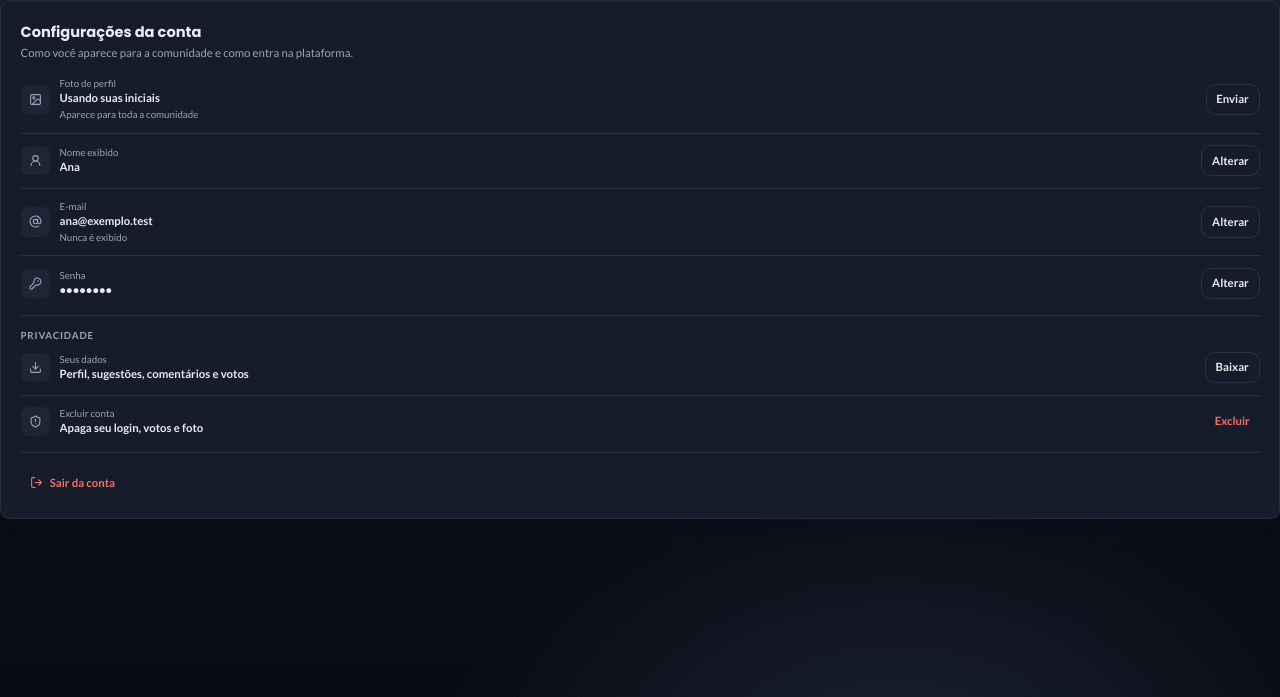
Test: Configurações da conta: senha › valida no navegador antes de falar com o servidor
Click the button "Alterar" in the row of "Senha" at (1230,283), box left=1201, top=268, right=1260, bottom=299
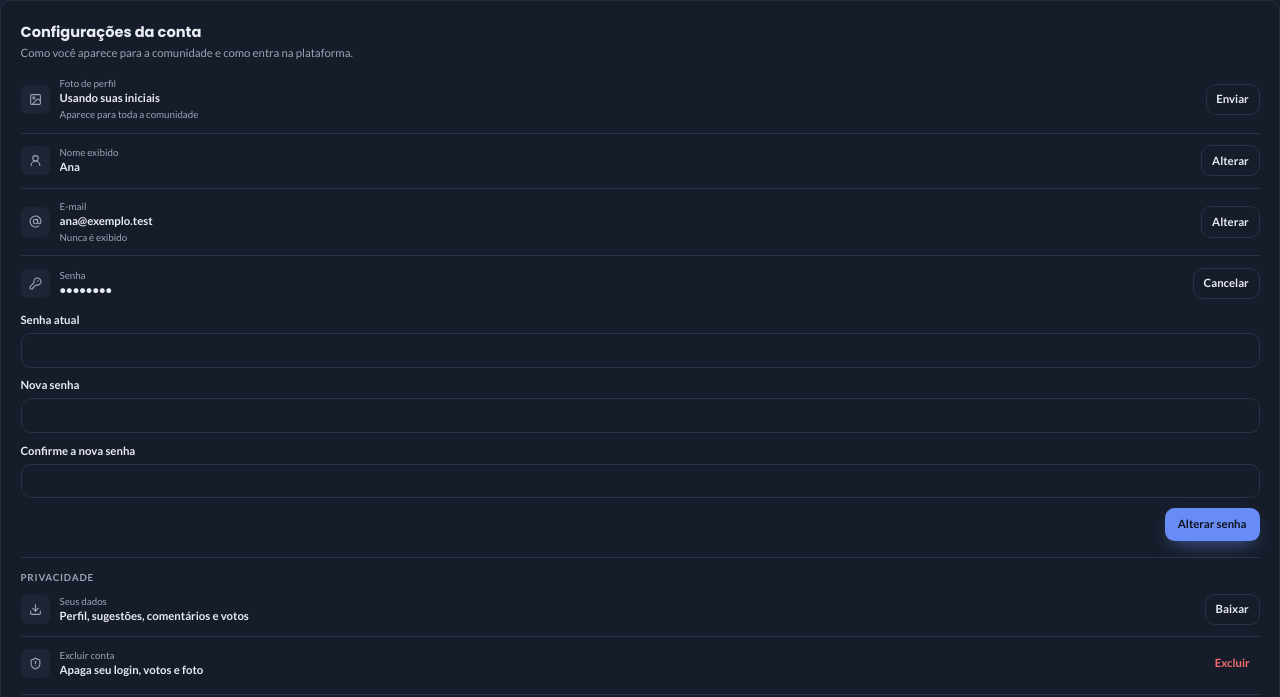
Type "senha-antiga" into the password field labelled "Senha atual" at (640,350), box left=20, top=333, right=1260, bottom=368
Type "curta" into the password field labelled "Nova senha" at (640,416), box left=20, top=398, right=1260, bottom=433
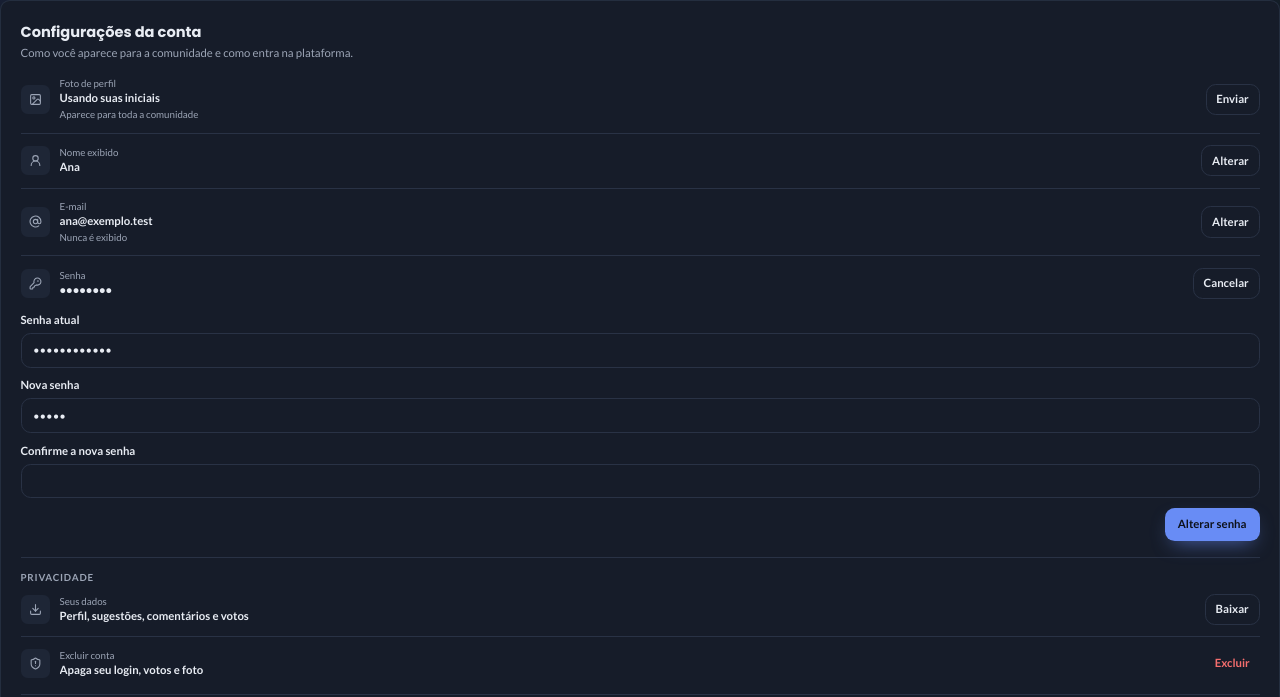
Click the button "Alterar senha" at (1212,524), box left=1165, top=508, right=1260, bottom=540
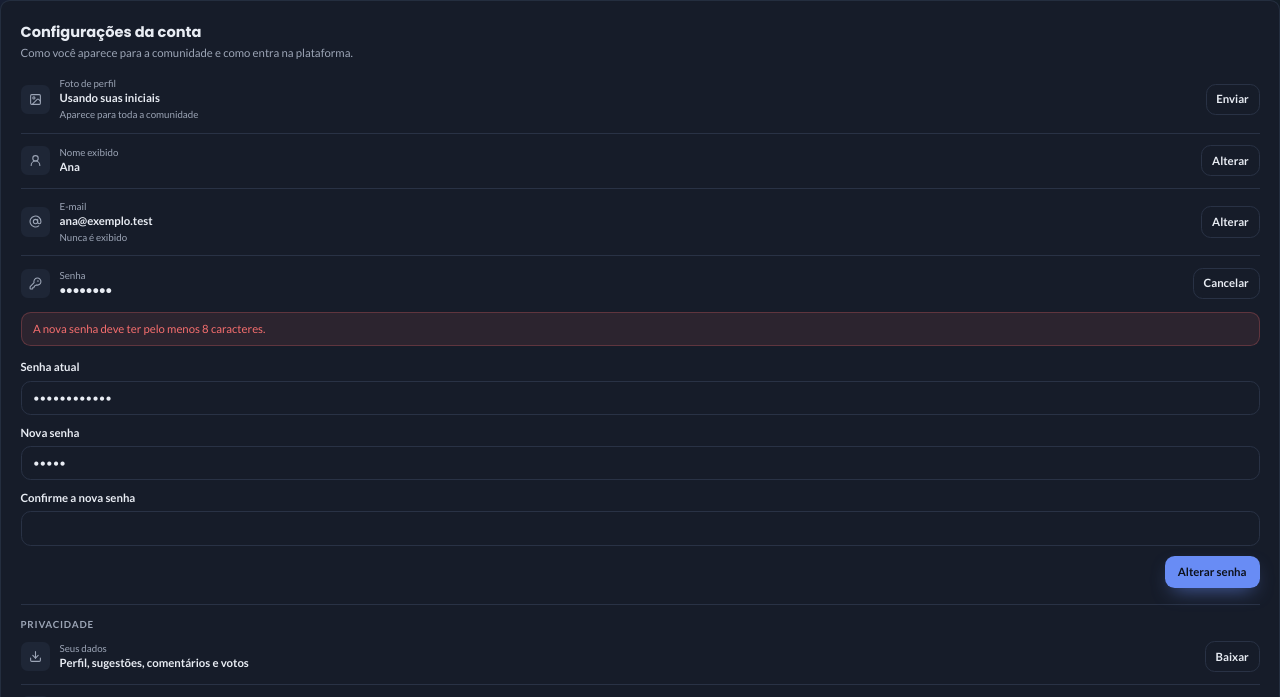
Now the text "A nova senha deve ter pelo menos 8 caracteres." is shown, box left=20, top=312, right=1260, bottom=346
Type "senha-nova-123" into the password field labelled "Nova senha" at (640,463), box left=20, top=446, right=1260, bottom=480
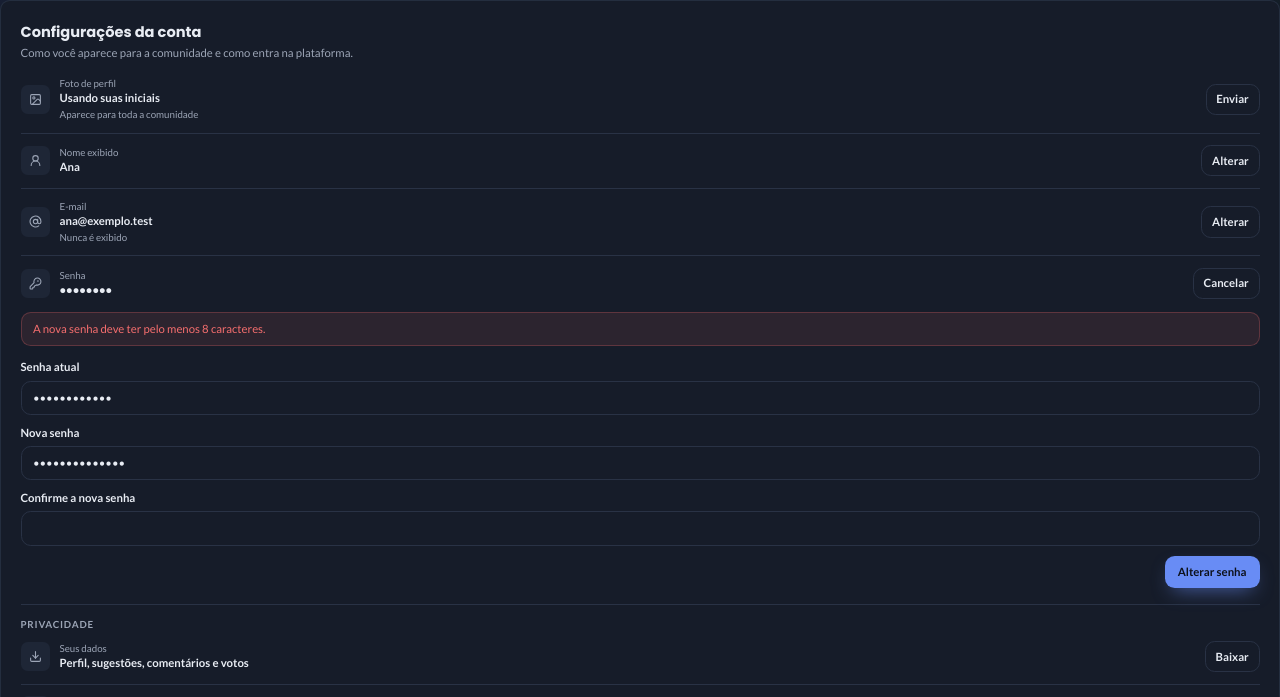
Type "senha-nova-124" into the password field labelled "Confirme a nova senha" at (640,529), box left=20, top=511, right=1260, bottom=546
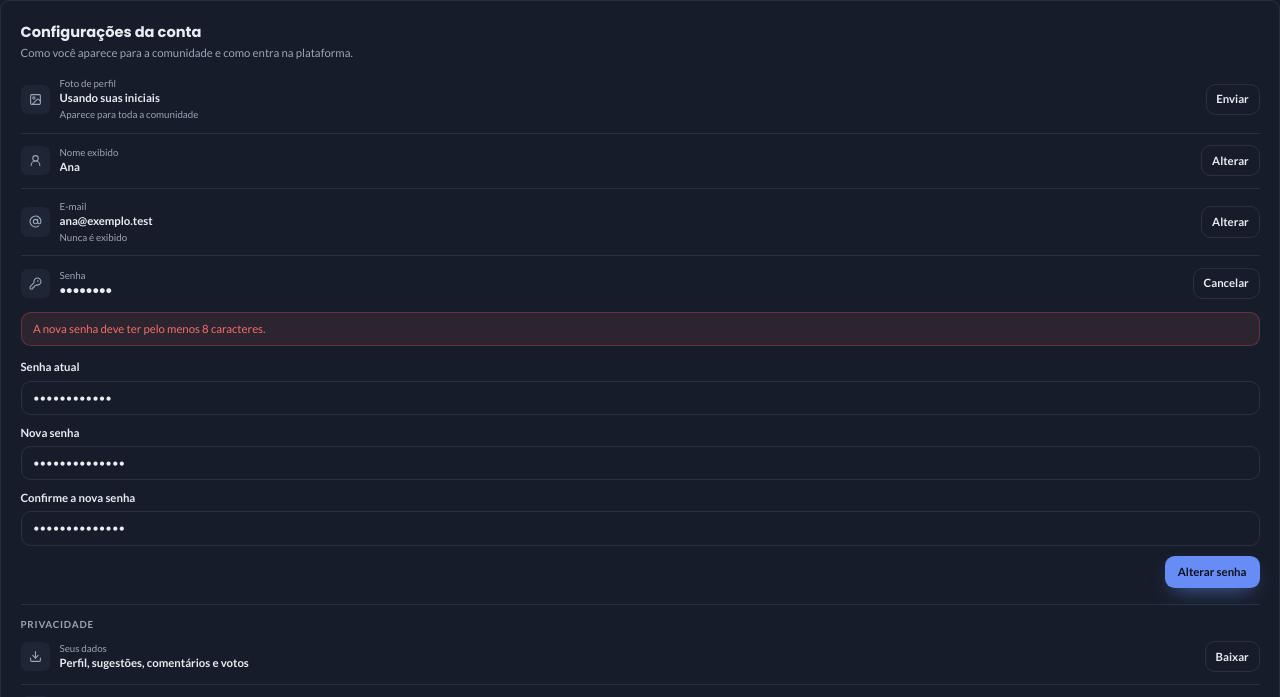
Click the button "Alterar senha" at (1212,572), box left=1165, top=556, right=1260, bottom=588
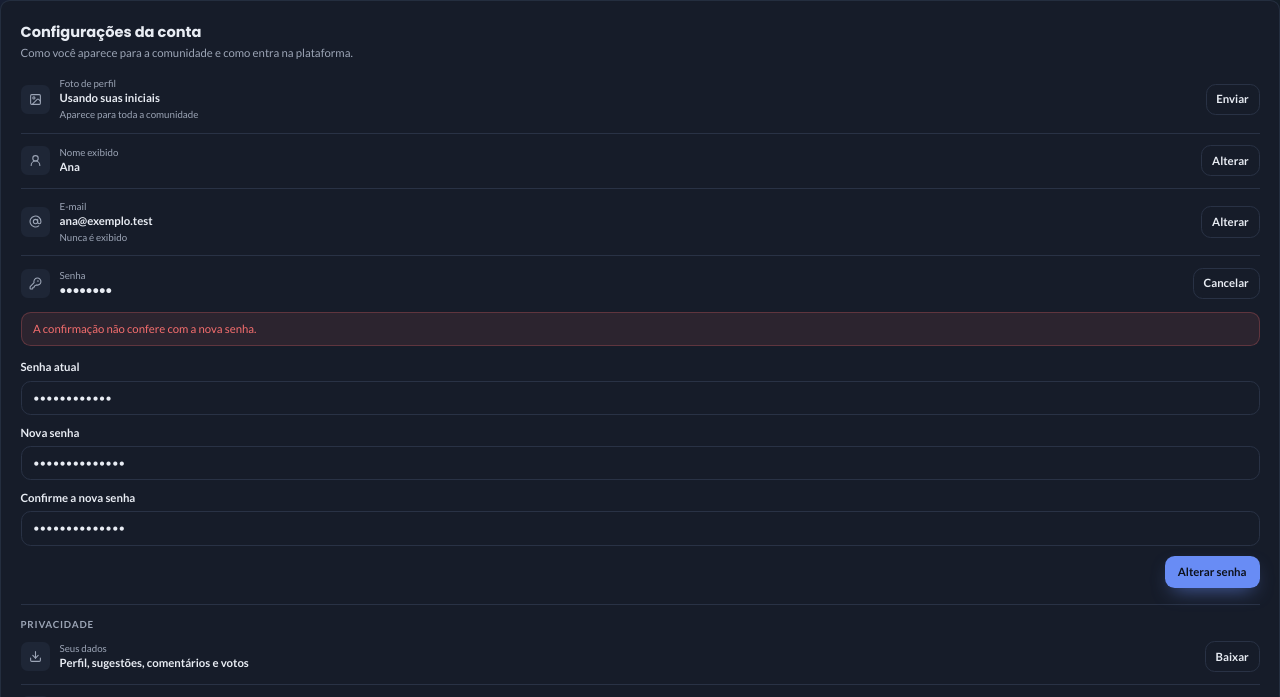
Now the text "A confirmação não confere com a nova senha." is shown, box left=20, top=312, right=1260, bottom=346
